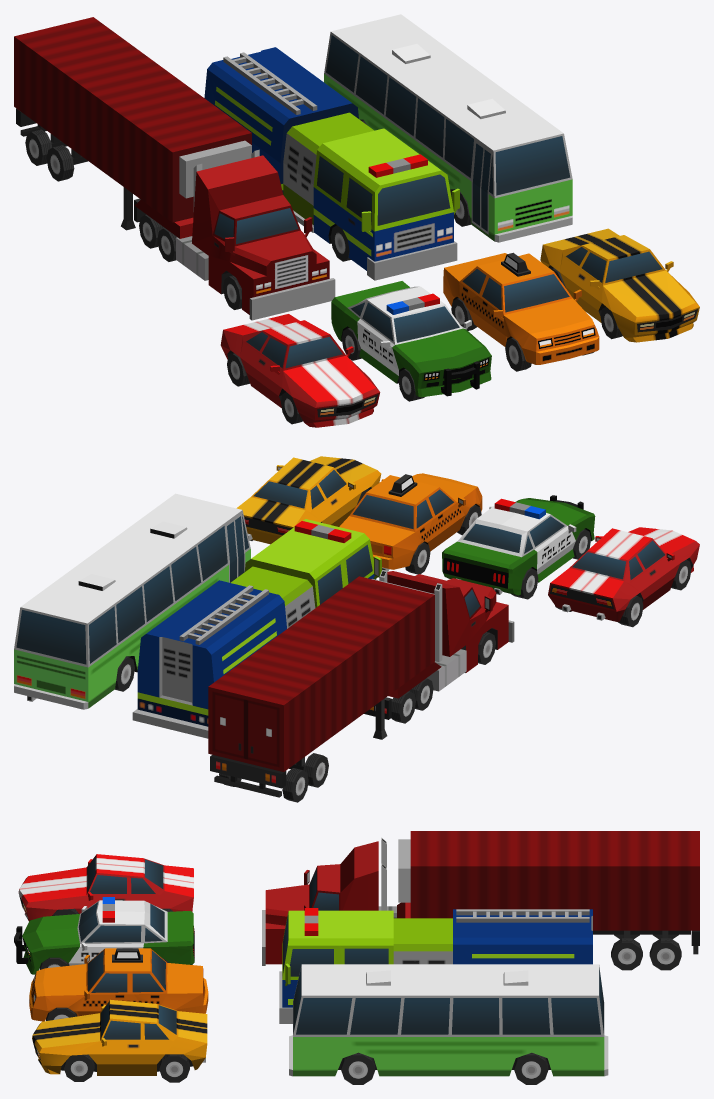
File: cars.fbx
3 renders of one model, top to bottom at view 1: azimuth 30°, elevation 25°; view 2: azimuth 150°, elevation 25°; view 3: azimuth 270°, elevation 25°, orthographic. The views are drawn at different scales.
Visible parts, largest first — view 1: polySurface7166, polySurface120, polySurface7237, polySurface25, polySurface212, polySurface3923, polySurface342; view 2: polySurface7166, polySurface7237, polySurface120, polySurface25, polySurface3923, polySurface212, polySurface342; view 3: polySurface7166, polySurface7237, polySurface120, polySurface342, polySurface212, polySurface25, polySurface3923.
Boxes of the visible parts, x1,y1,x2,y2 form: polySurface7166: (14, 17, 335, 320); polySurface120: (204, 47, 459, 280); polySurface7237: (324, 14, 572, 242); polySurface25: (331, 281, 491, 401); polySurface212: (443, 252, 599, 371); polySurface3923: (220, 314, 380, 427); polySurface342: (540, 228, 699, 342); polySurface7166: (208, 569, 514, 802); polySurface7237: (14, 493, 250, 709); polySurface120: (132, 519, 381, 738); polySurface25: (442, 495, 595, 599); polySurface3923: (548, 527, 699, 627); polySurface212: (339, 473, 482, 574); polySurface342: (236, 456, 381, 544); polySurface7166: (262, 831, 699, 970); polySurface7237: (289, 964, 608, 1084); polySurface120: (279, 908, 592, 1023); polySurface342: (32, 999, 207, 1082); polySurface212: (29, 948, 208, 1021); polySurface25: (14, 897, 194, 974); polySurface3923: (18, 854, 193, 921).
Size of the model in its own units: 9.98 by 2.64 by 15.75.
Materials: 9 (9 with a texture image).
